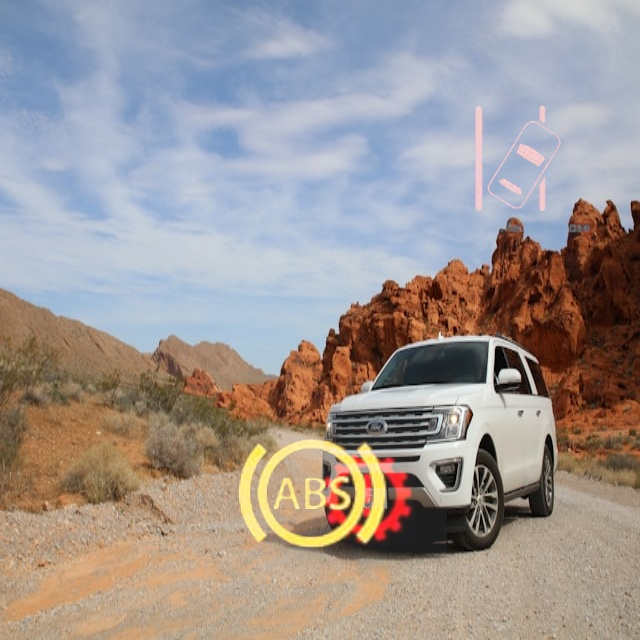symbol: (207, 391, 415, 599), (288, 418, 447, 577), (439, 83, 596, 240)
